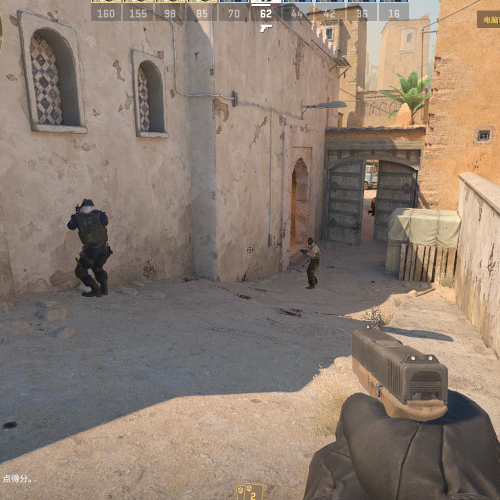ct_body: (67, 199, 112, 298)
ct_head: (78, 199, 94, 215)
t_body: (300, 238, 322, 290)
t_head: (305, 237, 314, 246)
